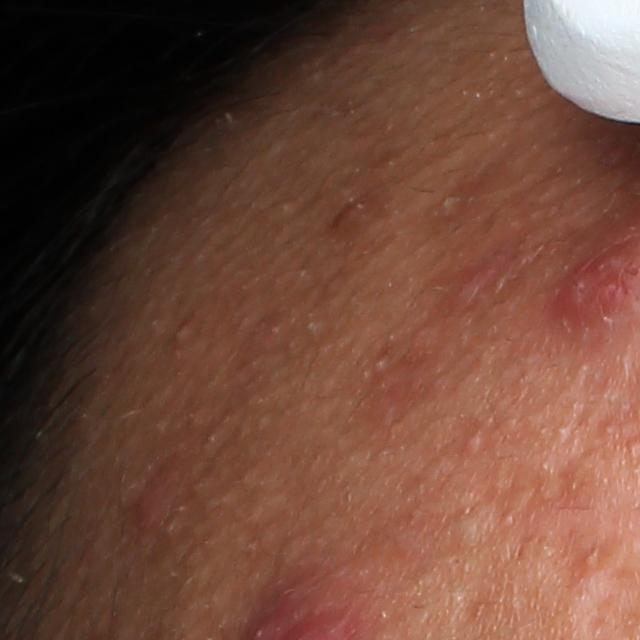comedo: (452, 507, 503, 551)
papule: (133, 478, 170, 533)
